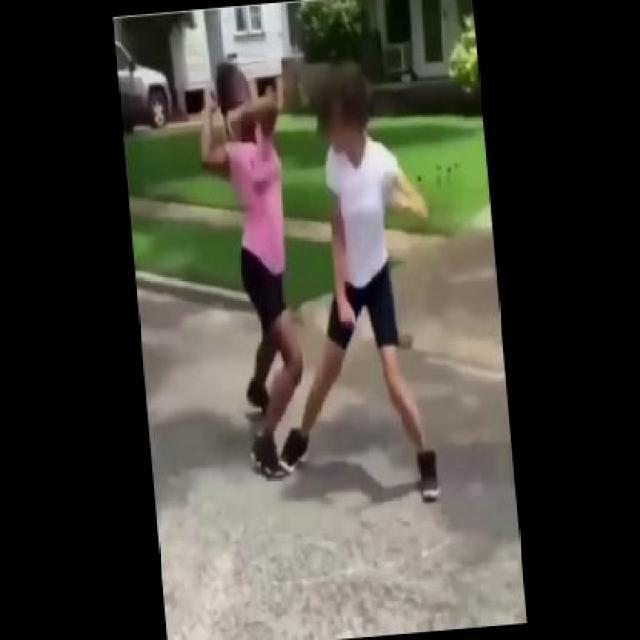fight: (192, 41, 454, 518)
